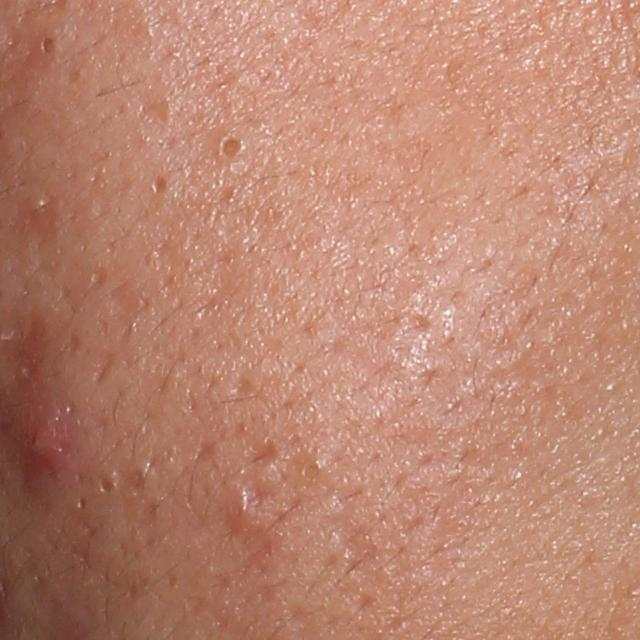atrophic_scar: (183, 215, 259, 323), (89, 276, 152, 393), (315, 487, 379, 579), (130, 81, 173, 153), (250, 438, 280, 472), (231, 369, 257, 396)
comedo: (213, 120, 252, 164), (127, 461, 153, 491), (147, 170, 173, 200), (296, 457, 323, 484), (38, 33, 63, 58), (98, 471, 119, 498), (74, 496, 87, 514)
papule: (3, 390, 77, 476), (225, 492, 253, 529)
